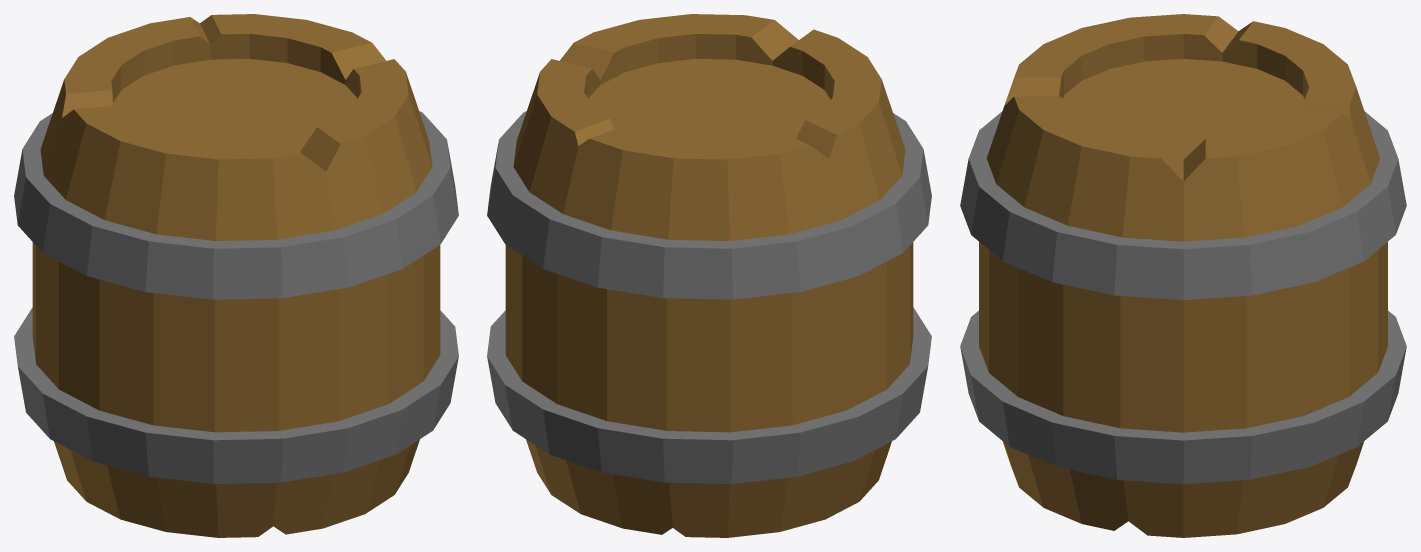
The model's file is Barrel_L.fbx.
3 views of the same model, side by side, from view 1: azimuth 30°, elevation 25°; view 2: azimuth 150°, elevation 25°; view 3: azimuth 270°, elevation 25° (orthographic).
Parts seen in each view (by area): view 1: Barrel2.003; view 2: Barrel2.003; view 3: Barrel2.003.
Boxes of the visible parts, box(x1,y1,x2,y2) form: Barrel2.003: box(14, 14, 458, 537); Barrel2.003: box(487, 14, 931, 537); Barrel2.003: box(960, 14, 1406, 537).
Bounding box in the file's own units: 150 × 140 × 150.
